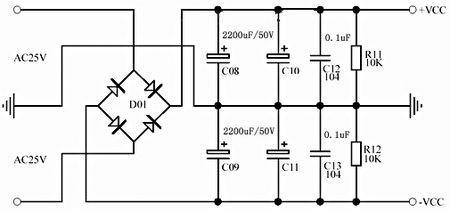bridge: (94, 67, 173, 144)
cap1: (263, 44, 293, 67), (203, 45, 233, 66), (265, 139, 291, 162), (206, 140, 232, 162), (307, 146, 334, 160), (308, 51, 333, 64)
gnd: (406, 91, 425, 121), (1, 93, 17, 119)
res1: (349, 42, 364, 74), (350, 138, 364, 170)
